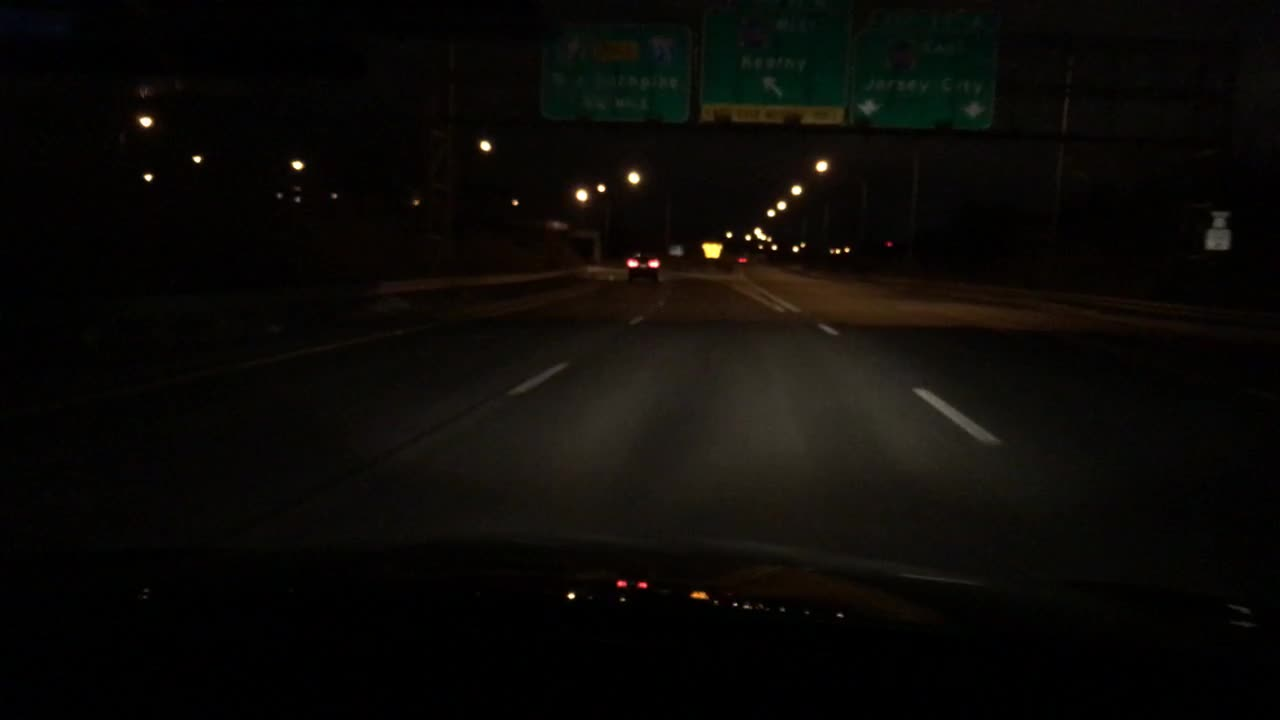car: (625, 251, 661, 282), (769, 239, 800, 260), (667, 243, 686, 257), (737, 253, 748, 264)
traffic sign: (695, 0, 846, 125), (850, 5, 994, 130), (538, 18, 692, 124)
